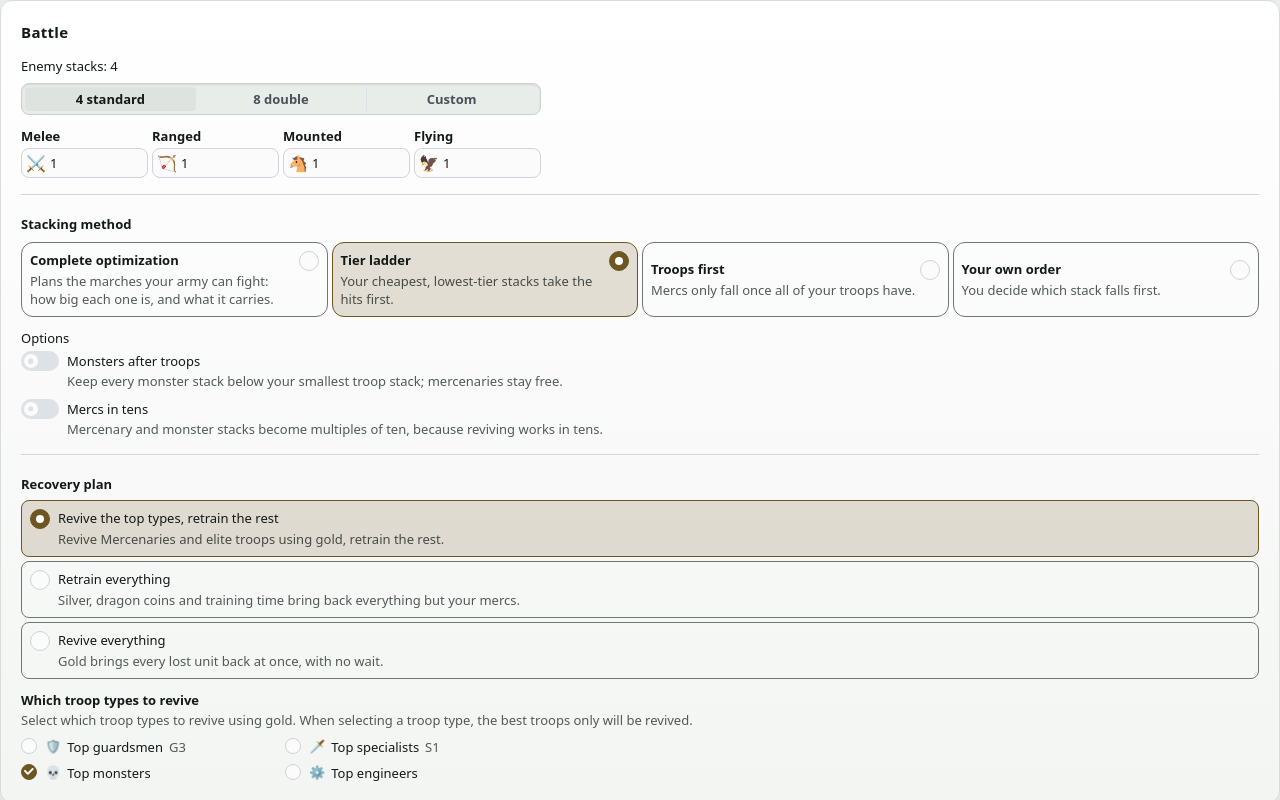
"Your own order" is the only method that offers the order of the fall
expect the button "Edit order" is not shown: met
Click the radio button labelled "Your own order" at (1106, 280), box x1=952 y1=242 x2=1259 y2=317
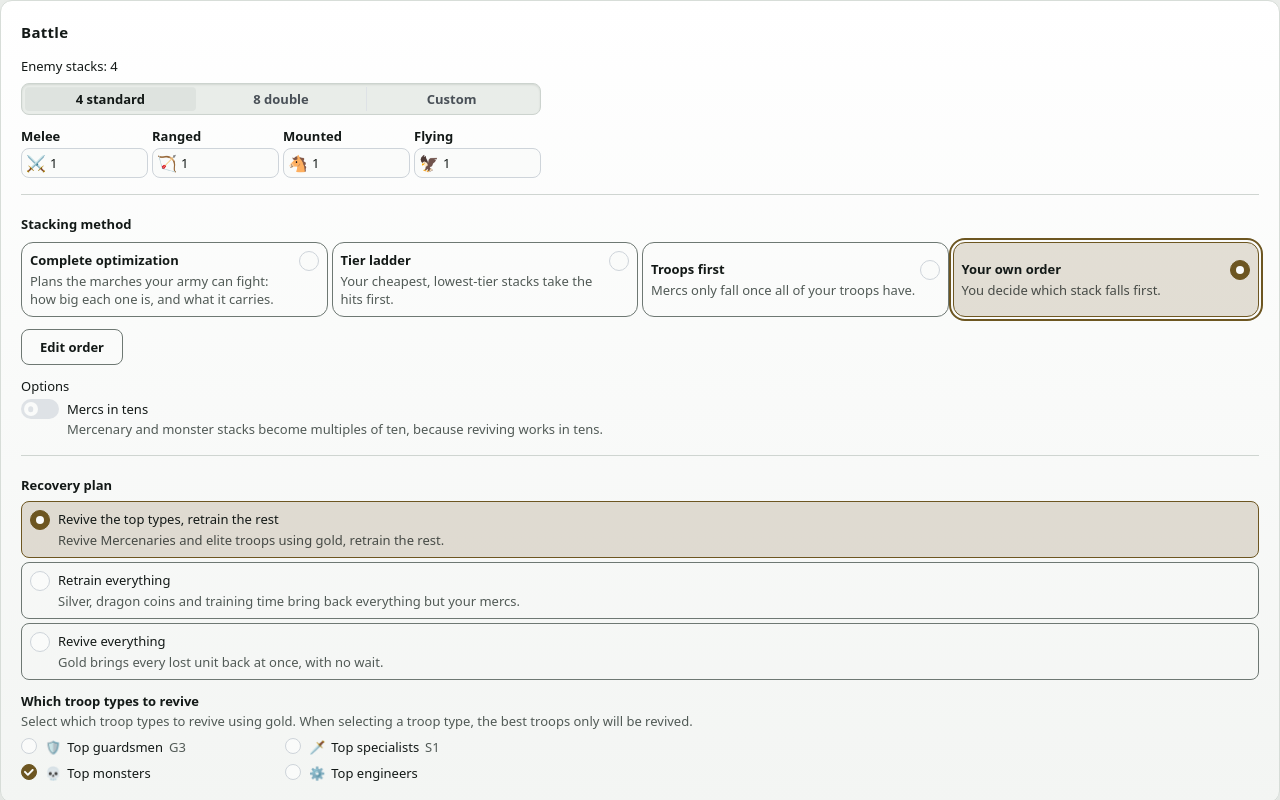
Click the button "Edit order" at (72, 347), box x1=21 y1=329 x2=123 y2=365
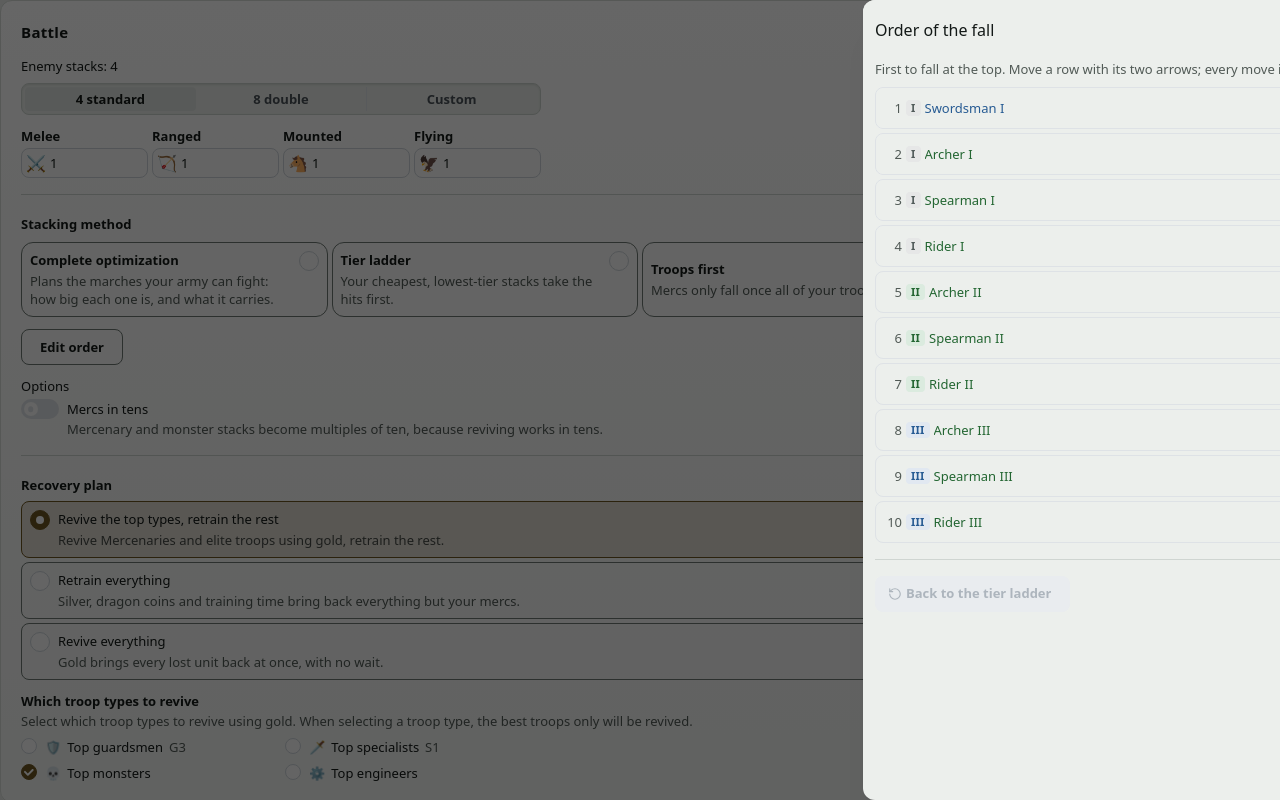
expect the heading "Order of the fall" is shown: met, box x1=875 y1=22 x2=994 y2=38
